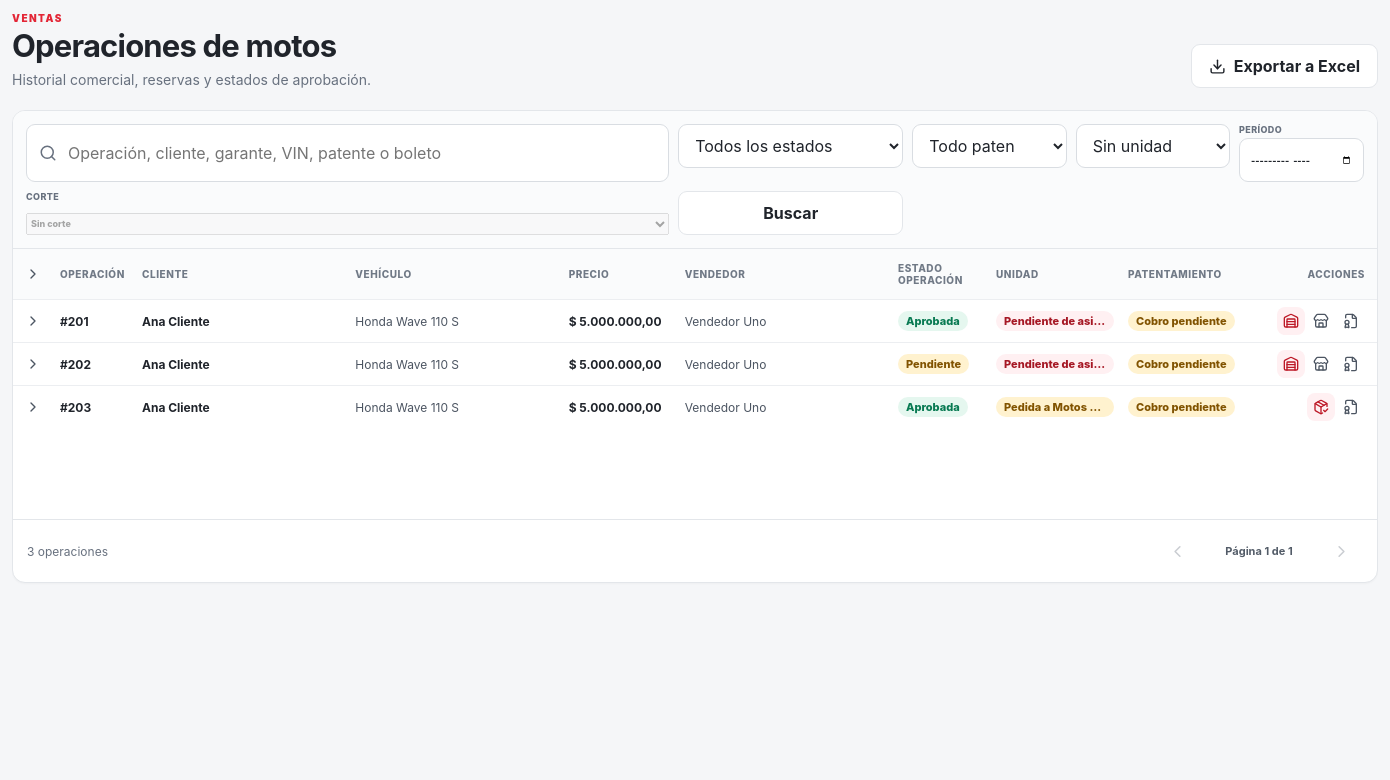
Test case: Unidad de motos desde la grilla de operaciones › lista operaciones sin unidad con su situación
Check: the 2nd row shows "Pendiente de asignar unidad", box [1004,314,1158,328]
Check: the 4th row shows "Pedida a Motos Norte (25/09/2026)", box [1004,400,1198,414]
# El color pedido está en el detalle desplegable de la fila.
What coordinates should you click on to do the following:
click the button named "Ver detalle"
I would click on:
 (33, 321)
Its box is [19,307,47,335].
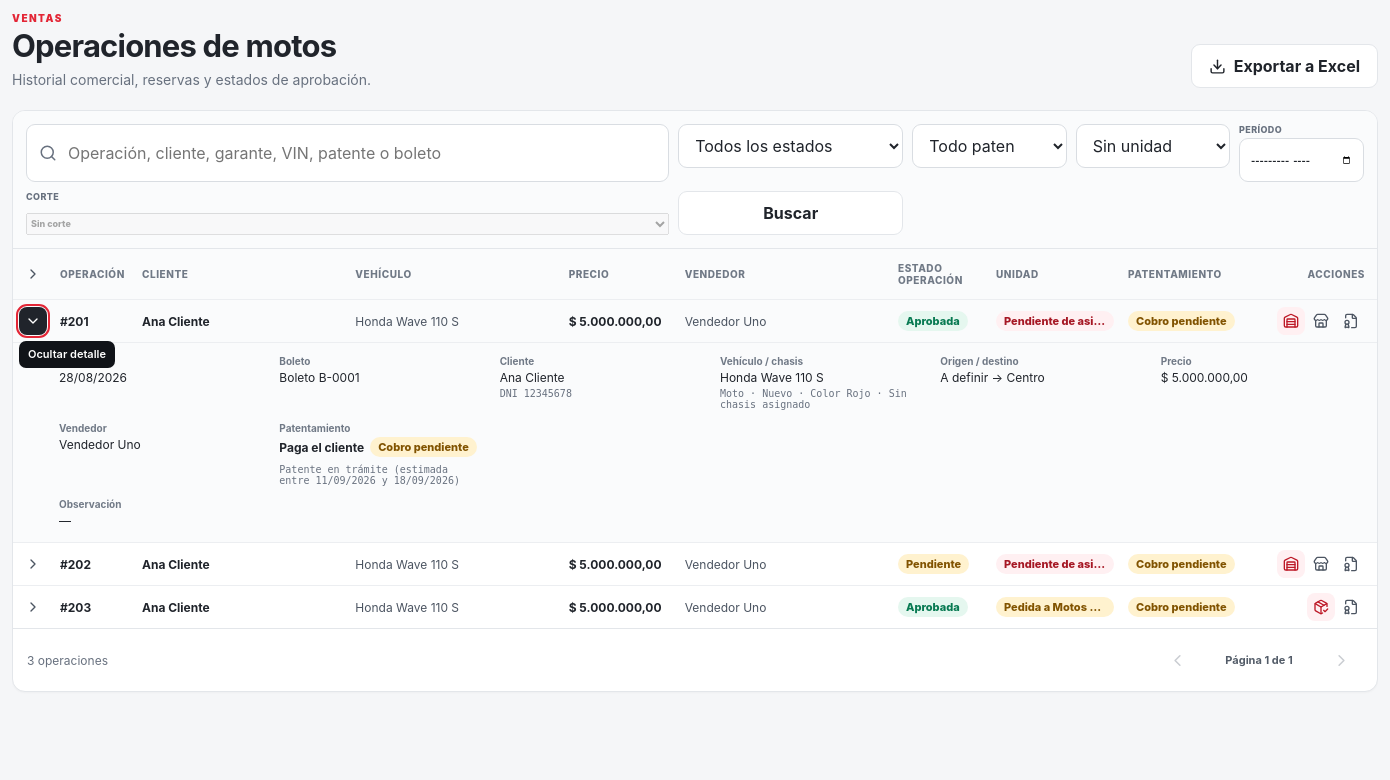
Check: the table shows "Rojo", box [792,388,871,399]
